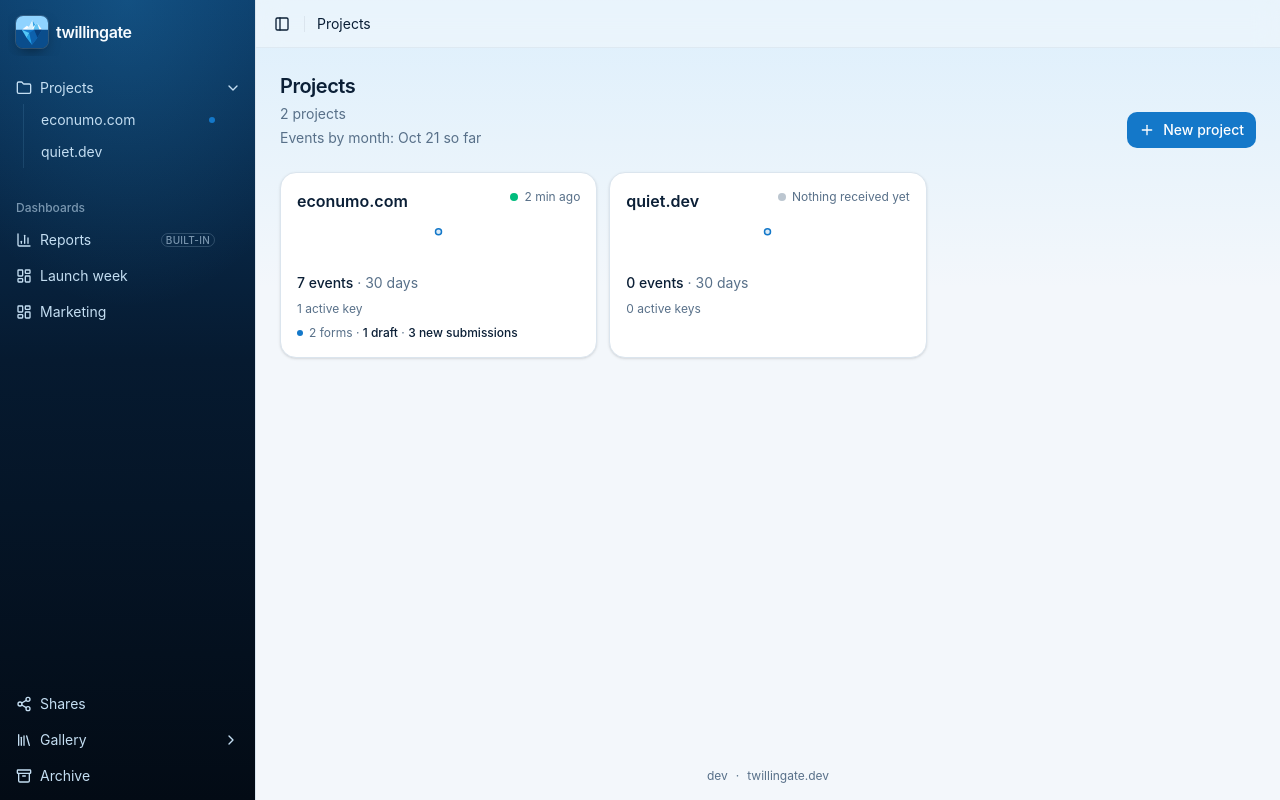
Test: Projects › creates a project and shows its key and snippet once
Click the button "New project".
click(1192, 130)  # box [1127,112,1256,148]
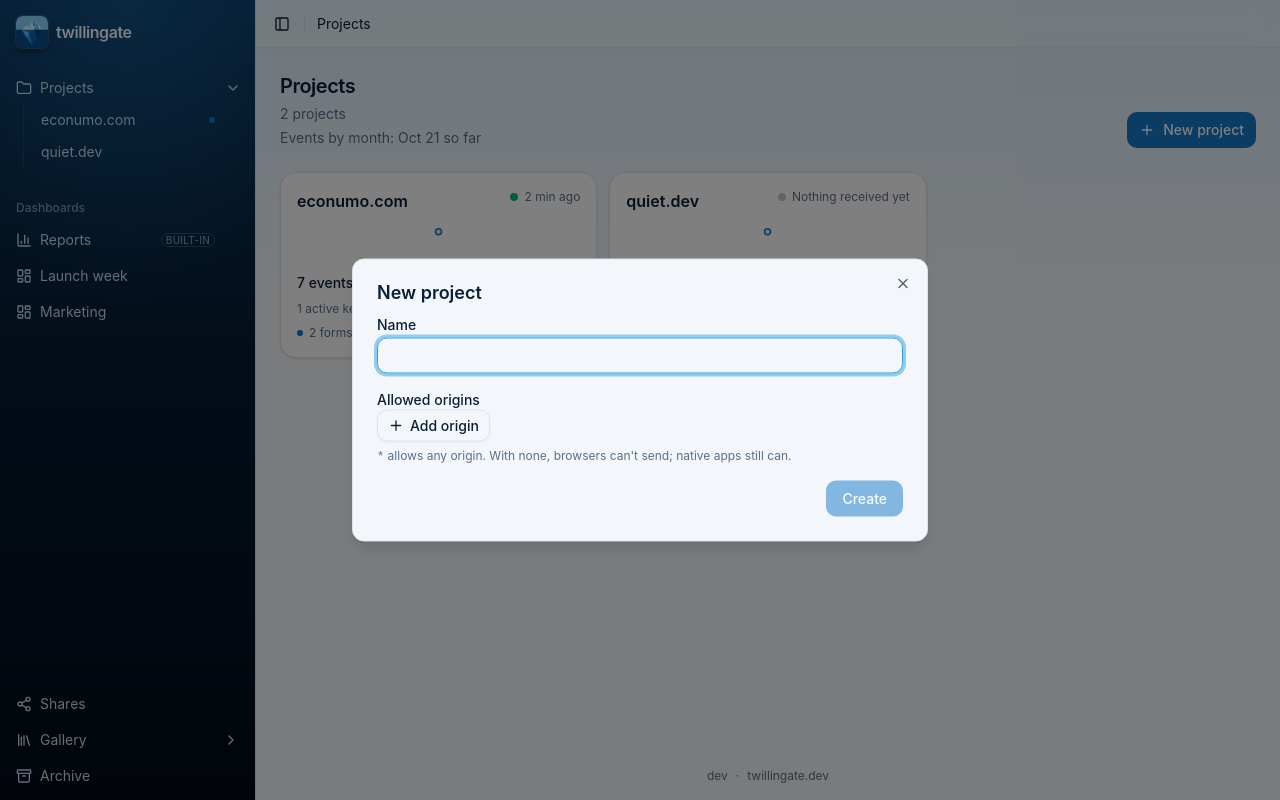
Type "shop" into the field labelled "Name".
click(640, 356); type("shop")  # box [377,338,903,374]
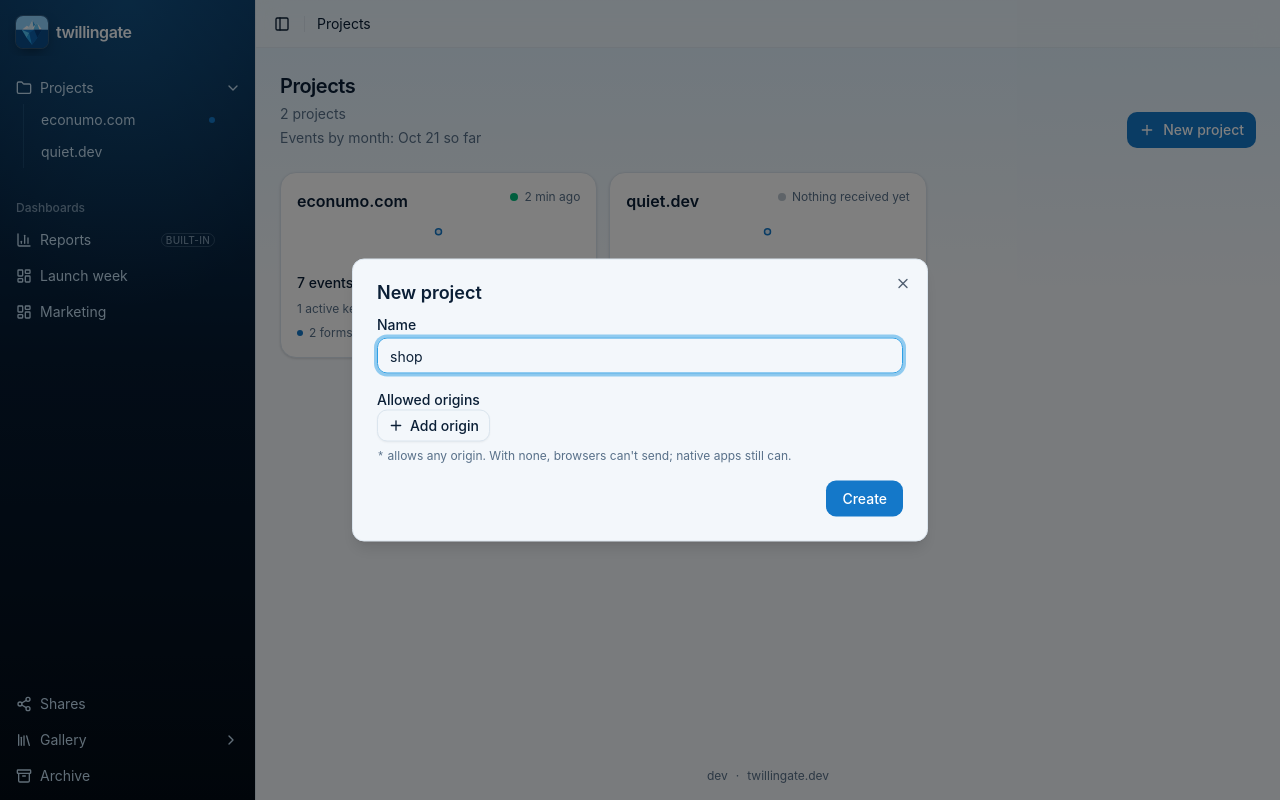
Click the button "Create".
click(865, 498)  # box [826,480,903,516]
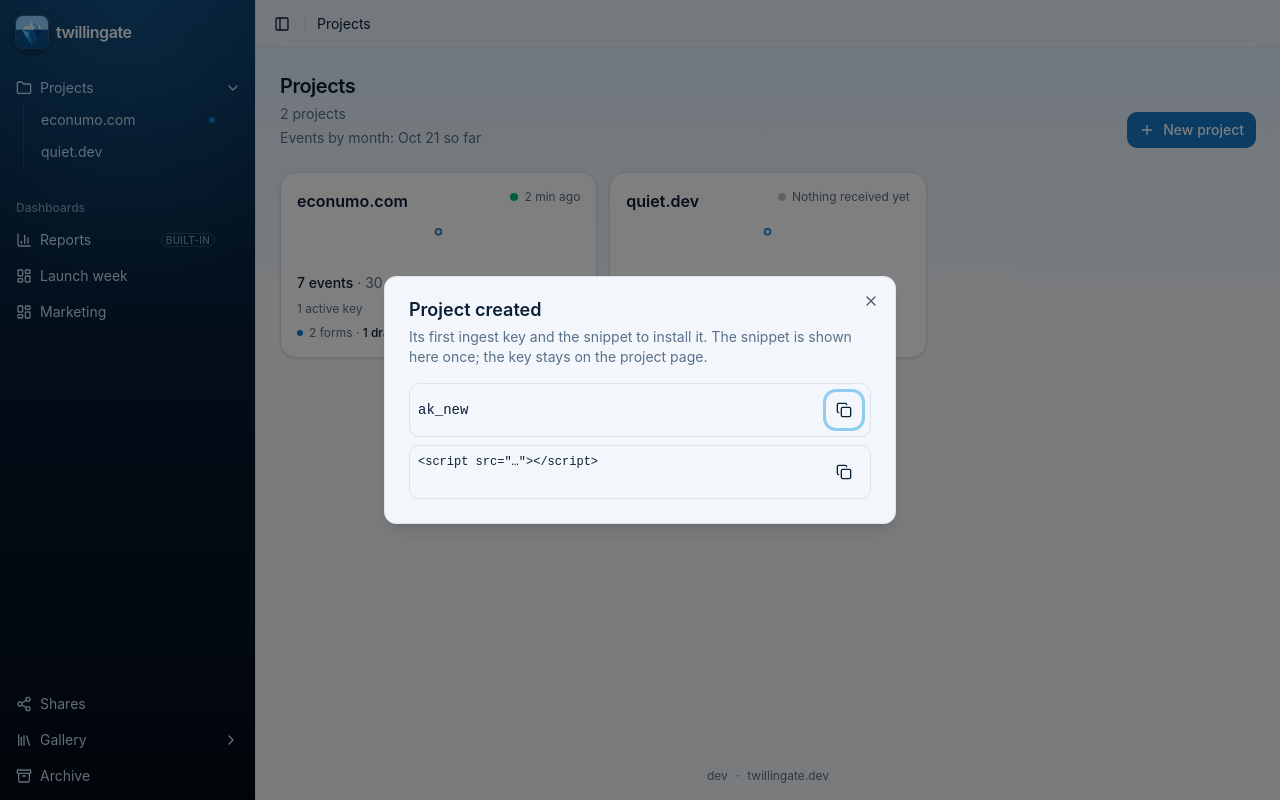
Expected: the text "ak_new" is shown, [418,402,468,418]
Expected: the text "<script src=\"…\"></script>" is shown, [418,455,598,469]
